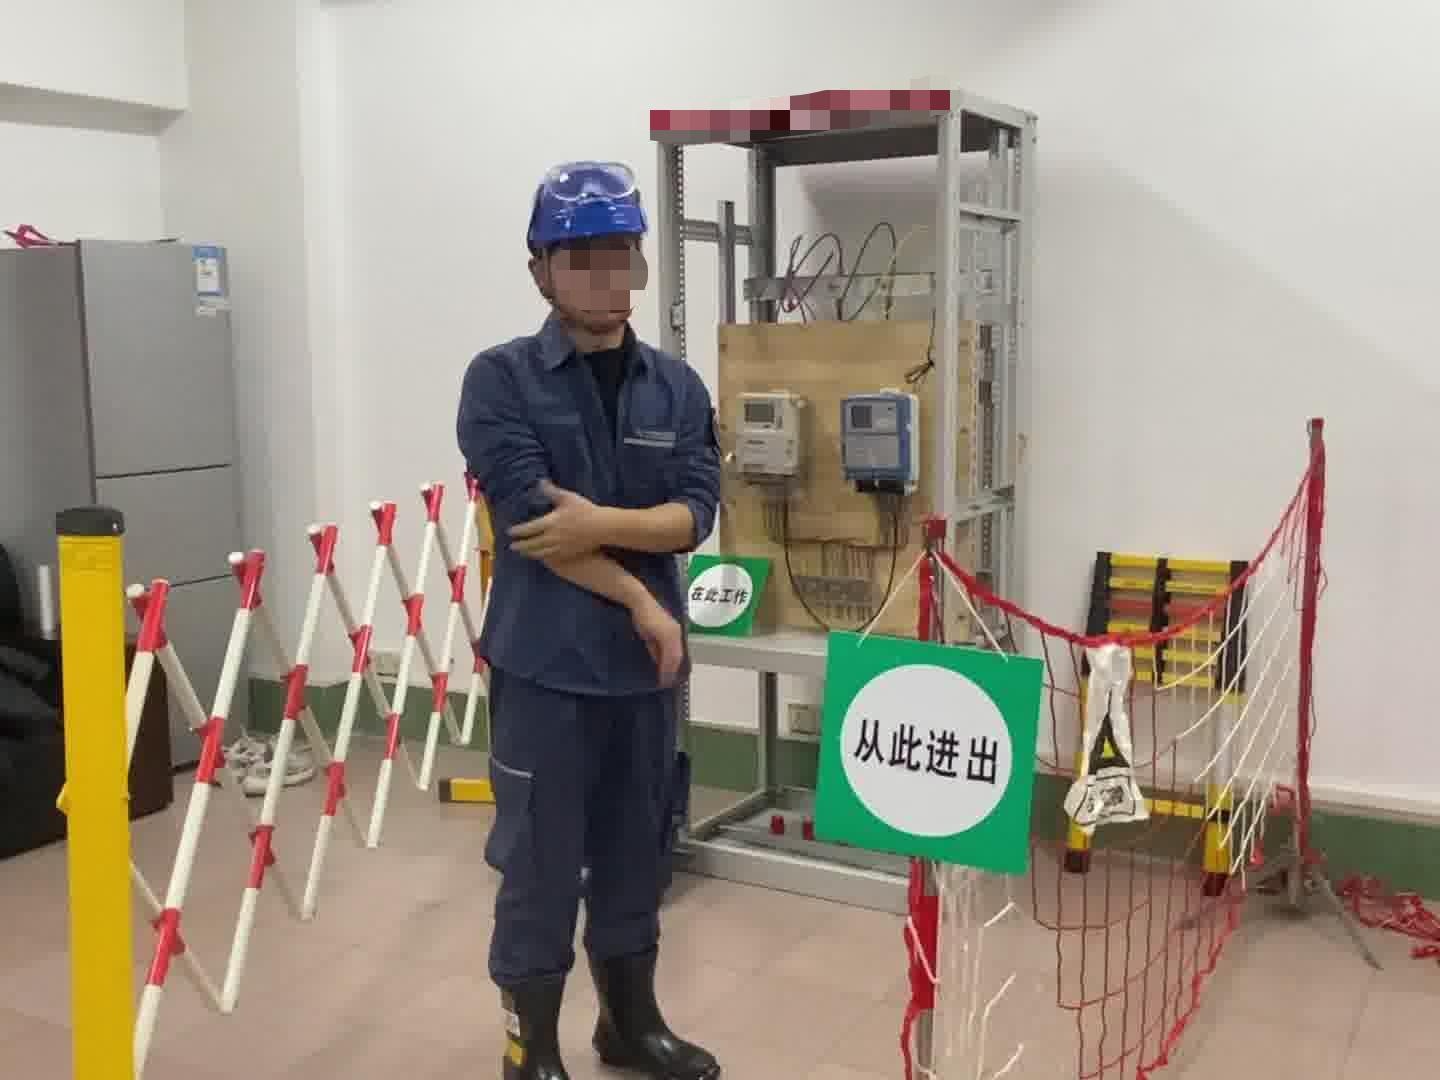halt: (523, 160, 658, 341)
